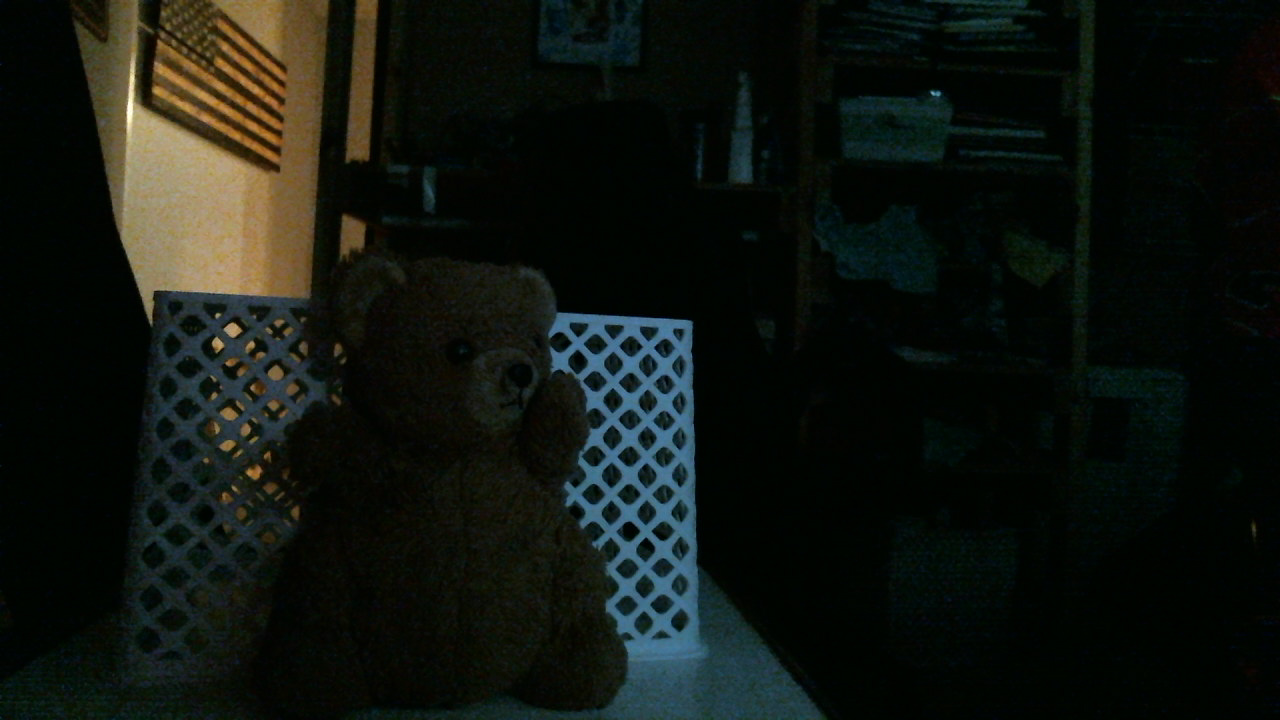Little_Mister_Bear: (447, 337, 558, 446)
